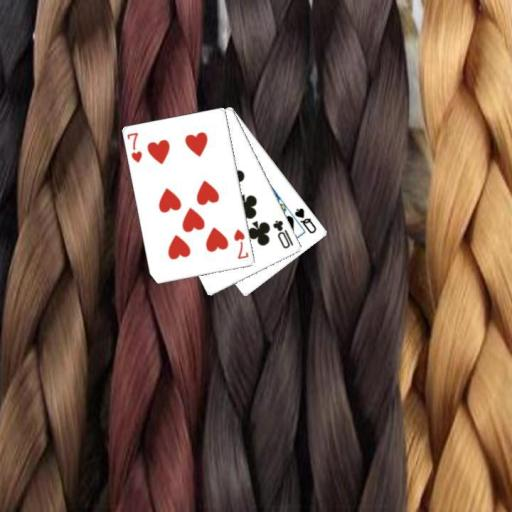10C: (270, 217, 295, 250)
7H: (231, 226, 250, 261), (125, 130, 144, 165)
QS: (291, 205, 318, 235)
